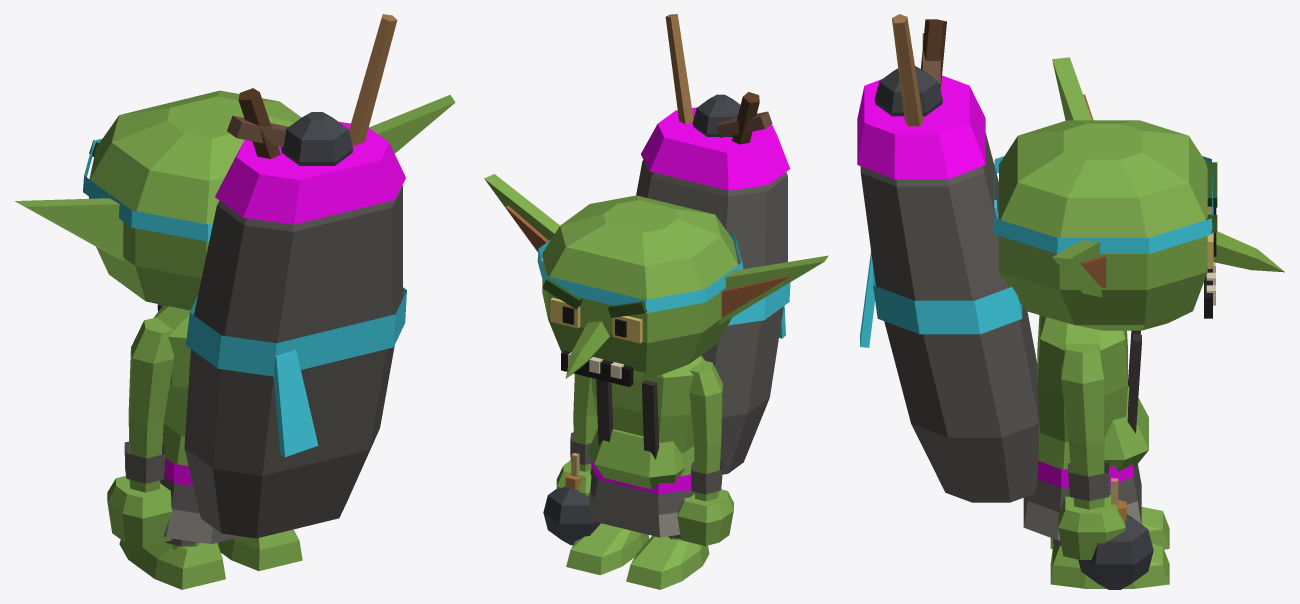
Rendered from CH_PitGoblin_SewerKing.fbx.
The picture shows the model from 3 angles, left to right: view 1: azimuth 30°, elevation 25°; view 2: azimuth 150°, elevation 25°; view 3: azimuth 270°, elevation 25°; orthographic projection. The views are drawn at different scales.
Visible parts, largest first — view 1: Body, Head, ArmL, LegL, LegR; view 2: Body, Head, ArmL, ArmR, LegL, LegR; view 3: Body, Head, ArmR, LegR, LegL.
Boxes of the visible parts, bbox=[...] form: Body: bbox=[153, 14, 406, 543]; Head: bbox=[15, 90, 455, 310]; ArmL: bbox=[107, 317, 173, 547]; LegL: bbox=[119, 538, 225, 589]; LegR: bbox=[218, 529, 302, 570]; Body: bbox=[587, 14, 790, 537]; Head: bbox=[484, 174, 828, 386]; ArmL: bbox=[677, 360, 733, 545]; ArmR: bbox=[543, 374, 600, 545]; LegL: bbox=[626, 535, 709, 589]; LegR: bbox=[566, 523, 649, 575]; Body: bbox=[857, 14, 1148, 540]; Head: bbox=[993, 57, 1284, 330]; ArmR: bbox=[1058, 343, 1153, 589]; LegR: bbox=[1050, 538, 1169, 588]; LegL: bbox=[1050, 507, 1169, 549].
Size of the model in its own units: 1.04 by 0.9349 by 1.37.
